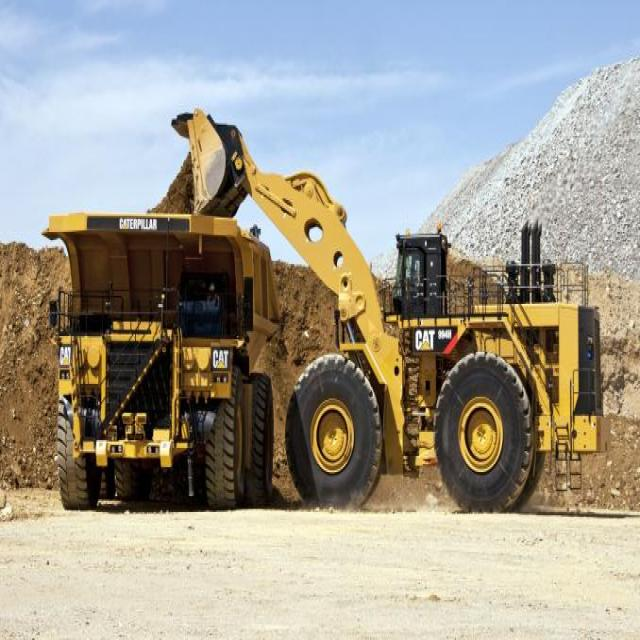buldozerpayloadergrader: (164, 80, 616, 522)
dump_truck: (34, 195, 274, 530)
